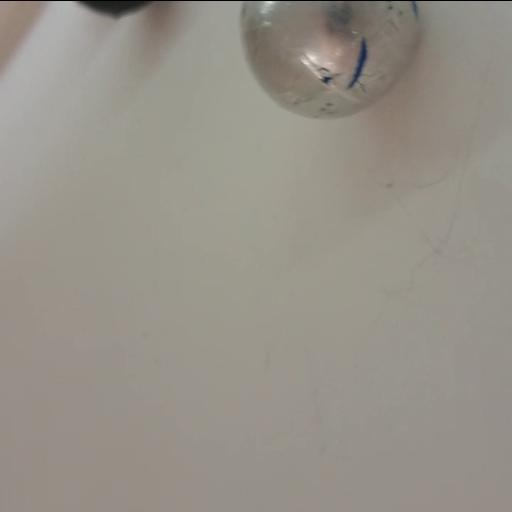alive: (234, 2, 422, 126)
dead: (72, 0, 154, 17)
